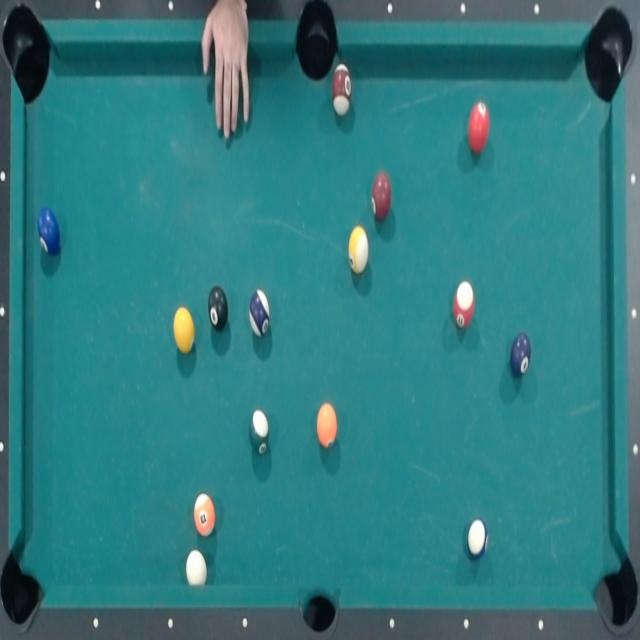black_8ball: (207, 285, 230, 331)
blue_solid: (37, 204, 62, 256)
blue_stripe: (466, 517, 492, 560)
cue_ball: (186, 549, 207, 588)
green_stripe: (248, 408, 271, 456)
maroon_solid: (371, 172, 393, 221)
maroon_stripe: (331, 64, 353, 118)
orange_solid: (316, 400, 338, 449)
orange_stripe: (193, 492, 215, 538)
player_hand: (200, 0, 259, 142)
playr: (509, 331, 533, 377)
purple_solid: (248, 289, 272, 338)
purple_stripe: (468, 101, 490, 155)
red_solid: (453, 281, 476, 329)
red_stripe: (172, 305, 197, 356)
yellow_solid: (348, 225, 370, 278)
